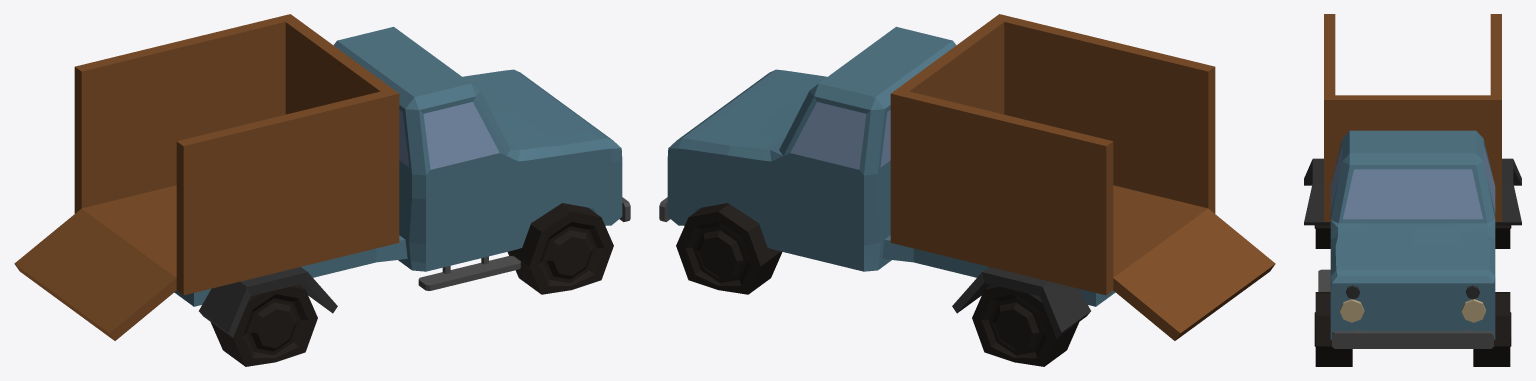
File: Truck.fbx
3 renders of one model, left to right at view 1: azimuth 30°, elevation 25°; view 2: azimuth 150°, elevation 25°; view 3: azimuth 270°, elevation 25°, orthographic. The views are drawn at different scales.
Parts seen in each view (by area): view 1: Truck; view 2: Truck; view 3: Truck.
Boxes of the visible parts, x1,y1,x2,y2 form: Truck: (14,14,630,366); Truck: (659,14,1275,366); Truck: (1304,14,1521,366).
Bounding box in the file's own units: 1970 × 846 × 877.
